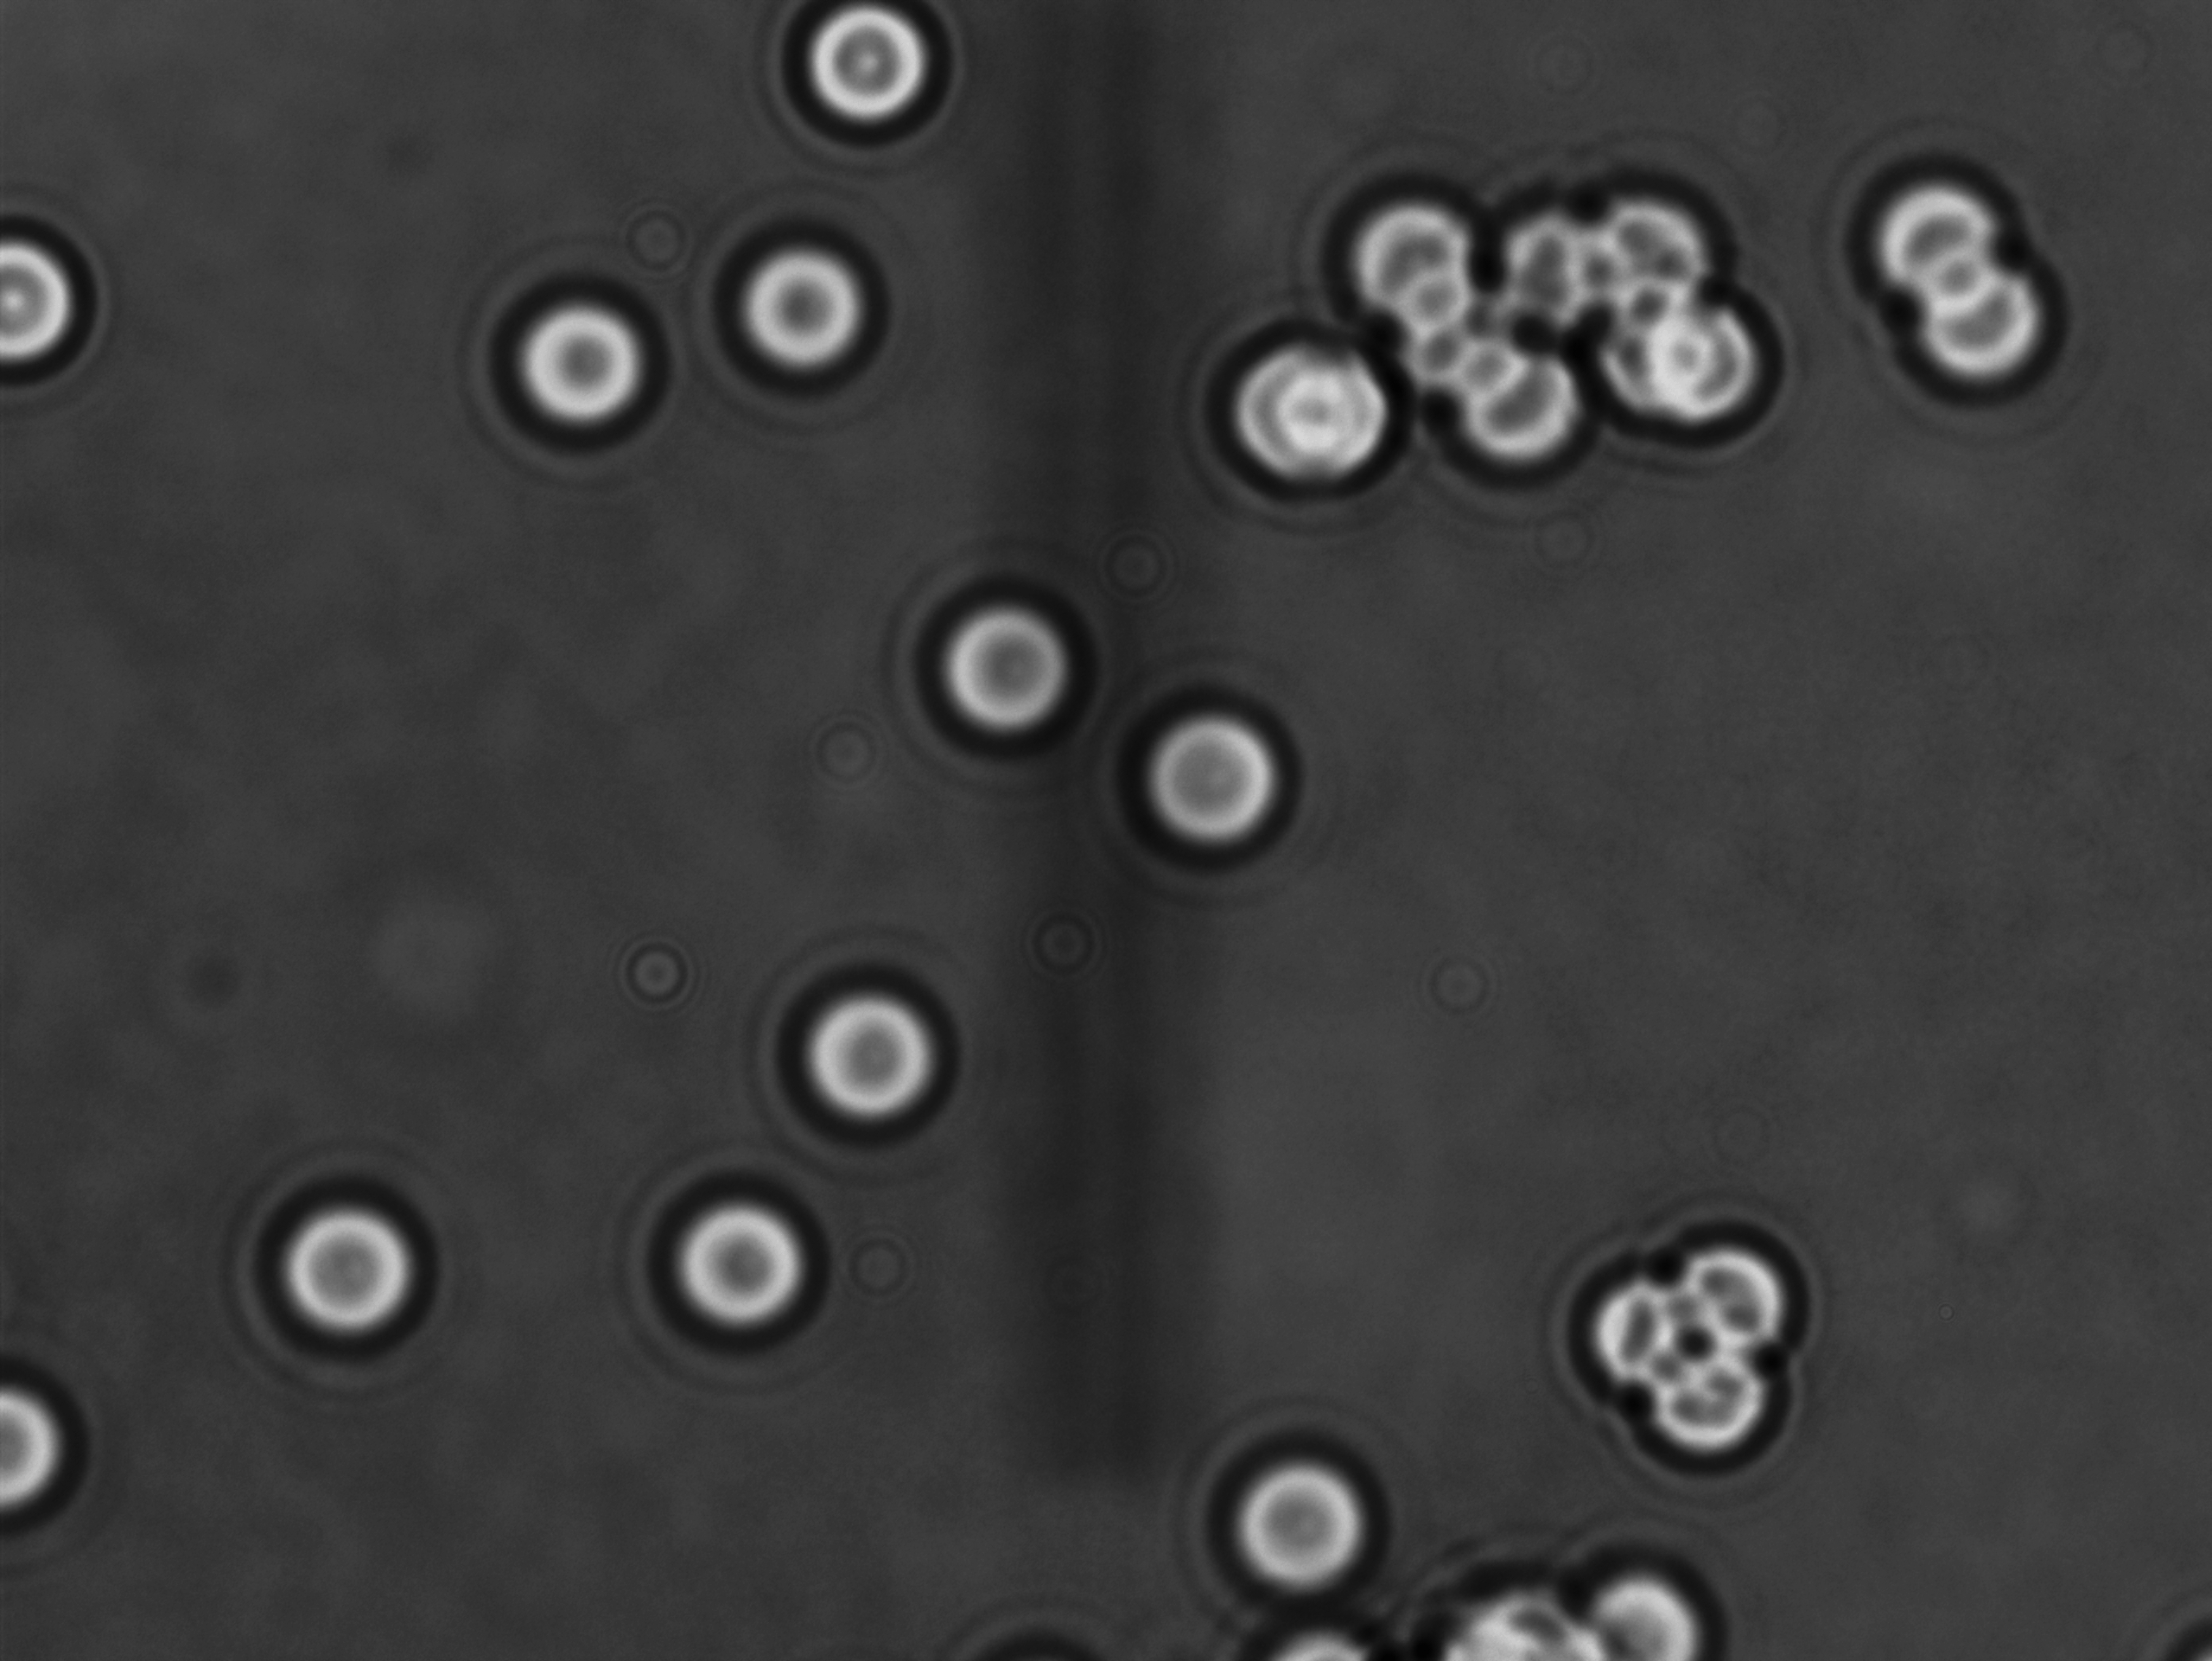depth:60: (1090, 661, 1342, 886), (211, 1150, 454, 1371), (750, 925, 982, 1153), (637, 1164, 865, 1370), (1195, 1431, 1413, 1623), (473, 260, 679, 448), (904, 553, 1099, 743), (1844, 127, 2039, 318), (720, 222, 904, 394)
